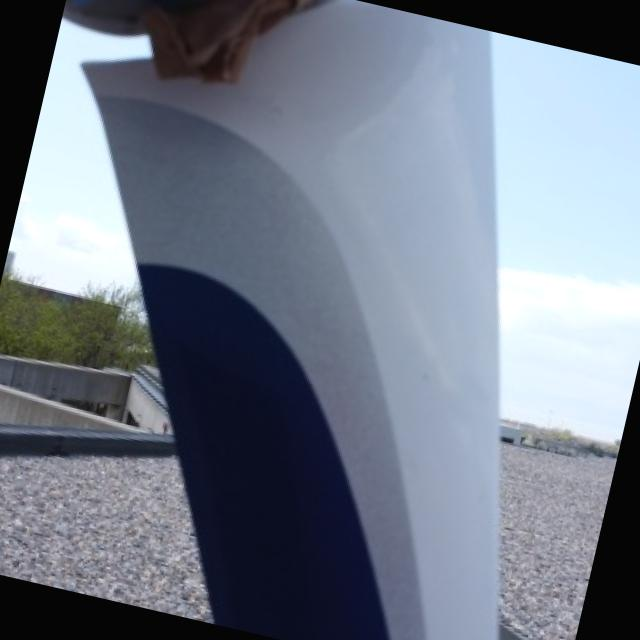healthy: (83, 0, 497, 640)
